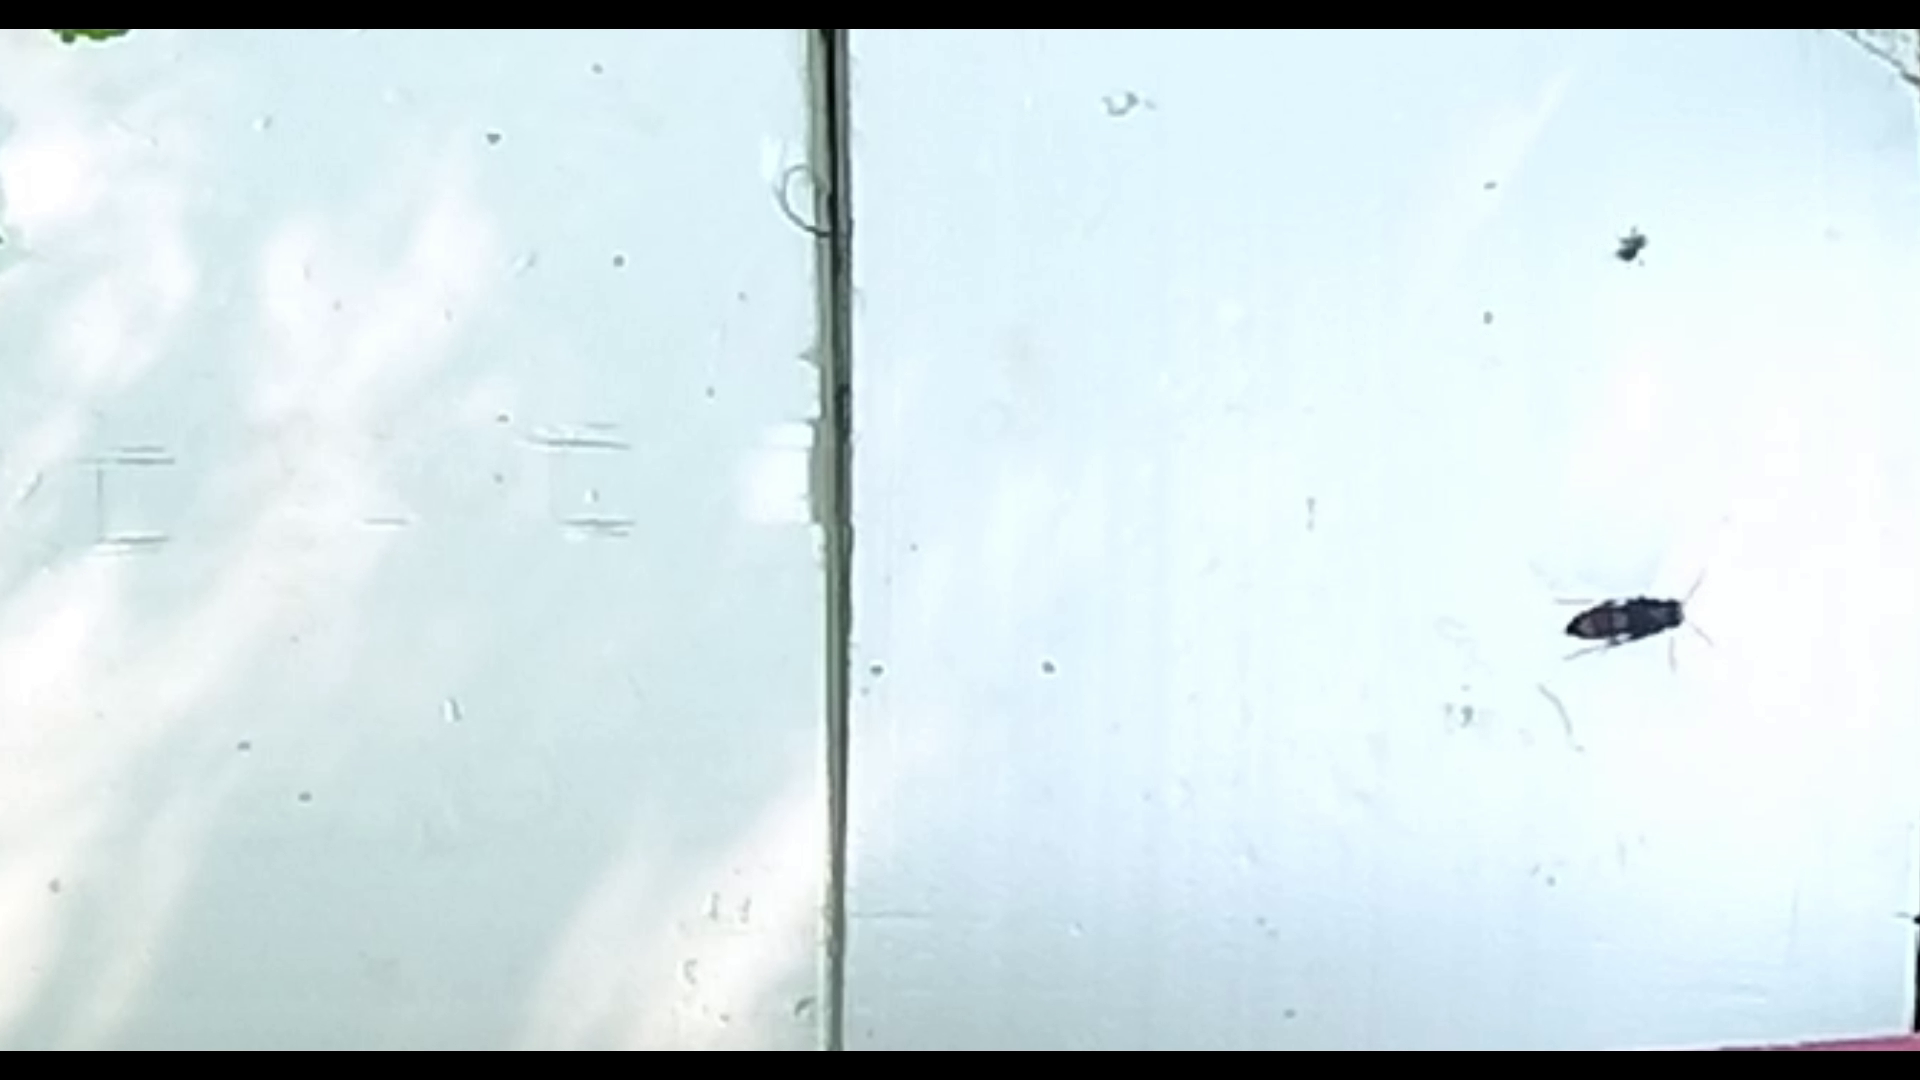Asian_hornets: (1542, 556, 1731, 673)
